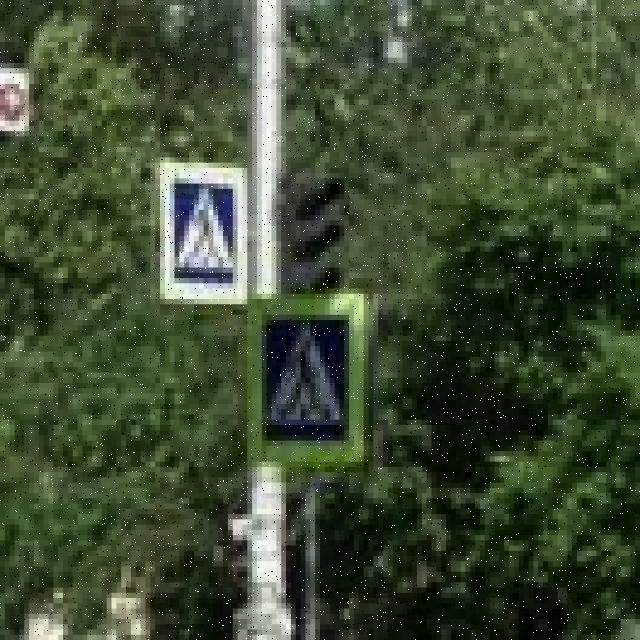Przejscie dla pieszych: (242, 294, 368, 467), (160, 158, 252, 304)
